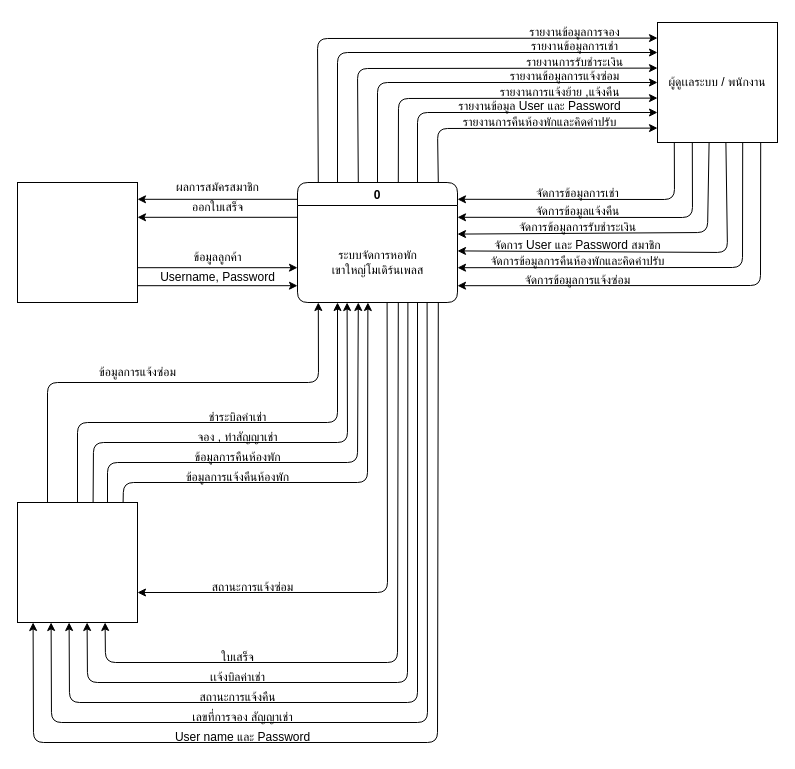
Some shapes in this 795 by 769 pixel diagram are drawn without their labels. The shapes that lost their labels are listed below. From the top down, each one's centre as x and y in pixels, then its label:
At [77,242]: "ลูกค้าทั่วไป".
At [77,562]: "ผู้เช่า / สมาชิก".
